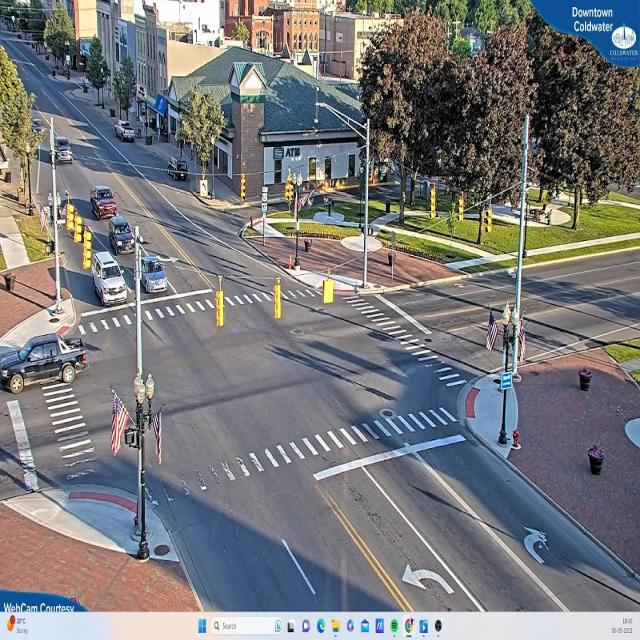car: (0, 328, 89, 394), (92, 248, 126, 305), (141, 256, 171, 296), (89, 187, 118, 220), (110, 218, 135, 253), (586, 442, 605, 475), (54, 136, 72, 166), (116, 123, 135, 143)
